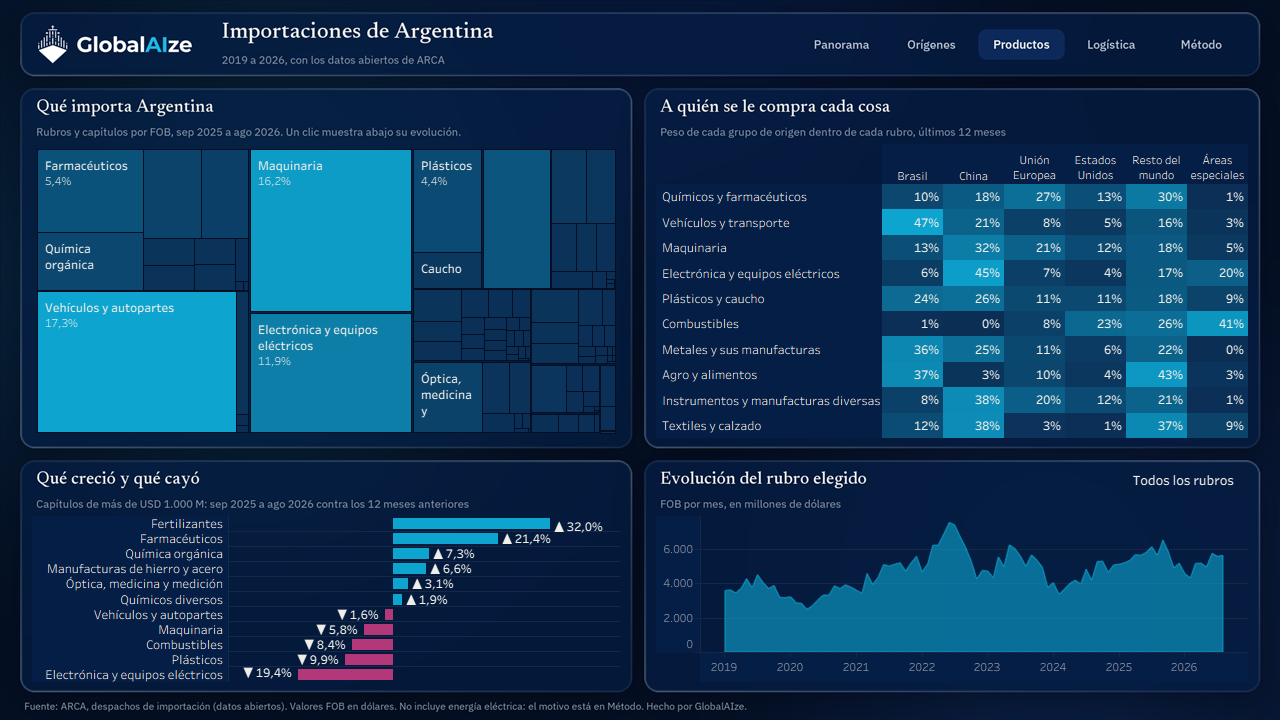

The dashboard page shown, as its layout file describes it:
{"tool":"tableau","page":{"name":"Productos","canvas":[1280,720],"ordinal":2},"visuals":[{"type":"image","param":"fondos/productos.png","box":[0,0,1280,720]},{"type":"dashboard-object","box":[798,29,86,30]},{"type":"dashboard-object","box":[888,29,86,30]},{"type":"dashboard-object","box":[1068,29,86,30]},{"type":"dashboard-object","box":[1158,29,86,30]},{"type":"worksheet","title":"Mapa de productos","mark":"Square","box":[32,144,588,294]},{"type":"worksheet","title":"Rubro por origen","mark":"Square","rows":["Rubro"],"cols":["Grupo de origen"],"box":[656,144,592,294]},{"type":"worksheet","title":"Rubro elegido","mark":"Text","box":[1024,469,220,26]},{"type":"worksheet","title":"Subas y bajas","mark":"Bar","rows":["Capítulo"],"cols":["c_var"],"box":[32,516,588,166]},{"type":"worksheet","title":"Evolución del rubro","mark":"Area","rows":["c_fob_m"],"cols":["Fecha"],"box":[656,516,592,166]}]}

Visuals, with their boxes in screenshot pixels (x1, y1, x2, y2), scaled from the page's 1280x720 canvas onto the 1280x720 screenshot:
image: {"left": 0, "top": 0, "right": 1279, "bottom": 719}
dashboard-object: {"left": 798, "top": 29, "right": 884, "bottom": 59}
dashboard-object: {"left": 888, "top": 29, "right": 974, "bottom": 59}
dashboard-object: {"left": 1068, "top": 29, "right": 1154, "bottom": 59}
dashboard-object: {"left": 1158, "top": 29, "right": 1244, "bottom": 59}
"Mapa de productos" worksheet (Square marks): {"left": 32, "top": 144, "right": 620, "bottom": 438}
"Rubro por origen" worksheet (Square marks): {"left": 656, "top": 144, "right": 1248, "bottom": 438}
"Rubro elegido" worksheet (Text marks): {"left": 1024, "top": 469, "right": 1244, "bottom": 495}
"Subas y bajas" worksheet (Bar marks): {"left": 32, "top": 516, "right": 620, "bottom": 682}
"Evolución del rubro" worksheet (Area marks): {"left": 656, "top": 516, "right": 1248, "bottom": 682}
